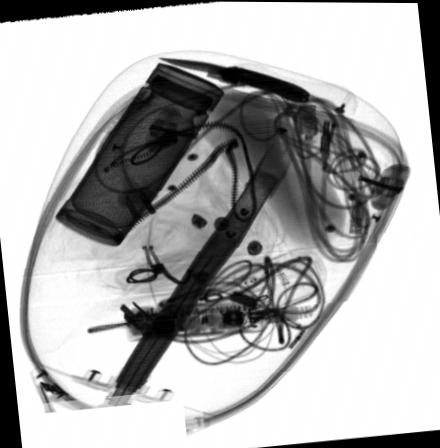Knife: (159, 57, 311, 102)
